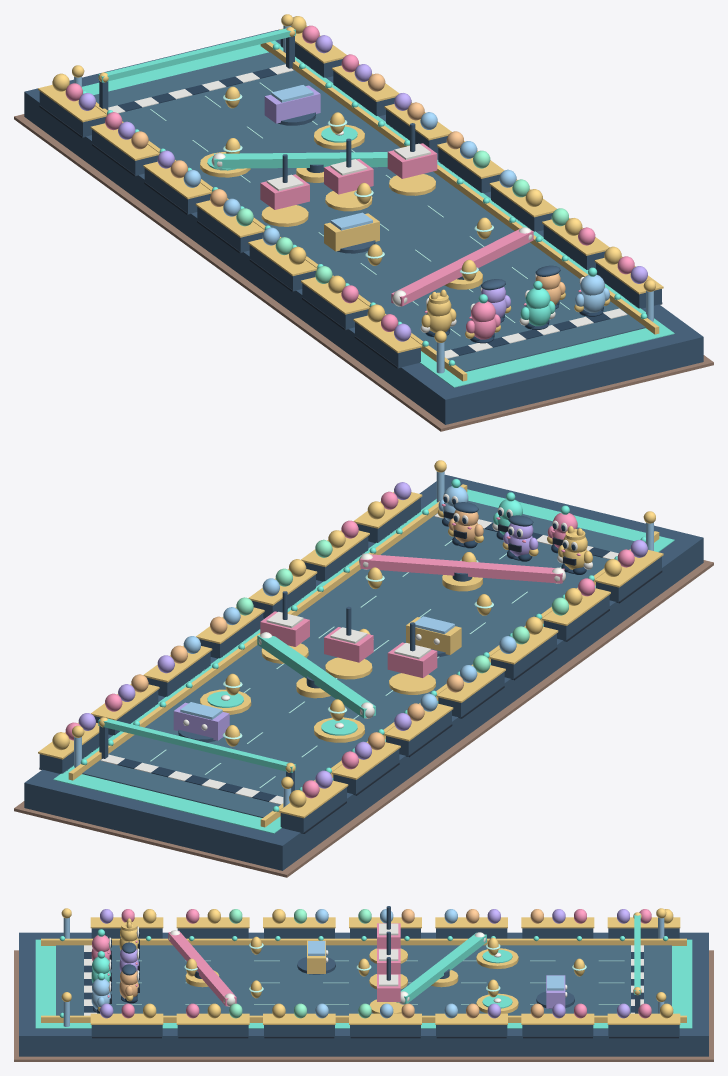
The model's file is arena.glb.
3 renders of one model, top to bottom at view 1: azimuth 30°, elevation 25°; view 2: azimuth 150°, elevation 25°; view 3: azimuth 270°, elevation 25°, orthographic. The views are drawn at different scales.
Parts seen in each view (by area): view 1: box (×37), molded podium, rotating hammer (×2), cyl (×3); view 2: box (×37), molded podium, rotating hammer (×2), cyl (×2); view 3: box (×41), molded podium, rotating hammer (×2), cyl (×6).
Part boxes in pixels (x1,y1,x2,y2): box (×37): (14, 28, 713, 431); molded podium: (24, 29, 703, 424); rotating hammer (×2): (214, 152, 533, 306); cyl (×3): (261, 174, 435, 226); box (×37): (14, 484, 713, 877); molded podium: (24, 474, 703, 870); rotating hammer (×2): (257, 554, 564, 718); cyl (×2): (325, 657, 435, 694); box (×41): (14, 913, 713, 1061); molded podium: (19, 932, 708, 1056); rotating hammer (×2): (168, 930, 486, 1006); cyl (×6): (297, 948, 518, 1013).
Bounding box in the file's own units: 0.24 × 0.0768 × 0.65.
